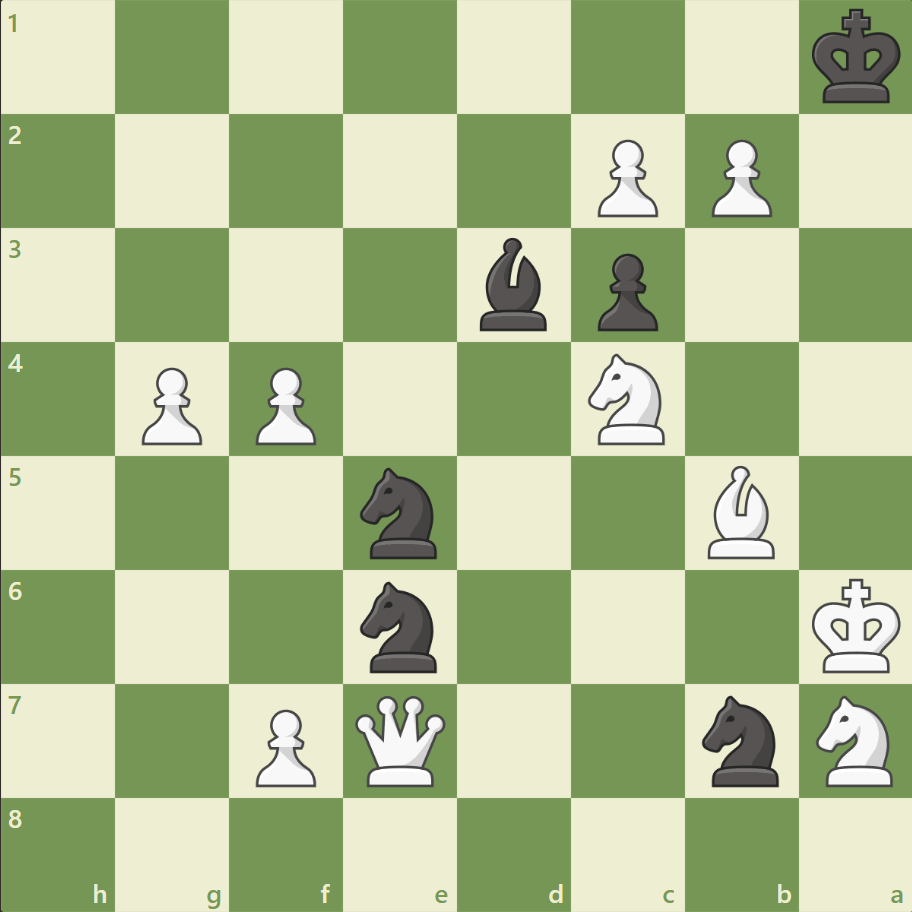B: (698, 460, 782, 563)
K: (806, 571, 906, 679)
N: (806, 688, 903, 791), (579, 348, 676, 450)
P: (247, 700, 322, 791), (247, 359, 322, 450), (133, 359, 208, 450), (701, 132, 776, 223), (588, 132, 662, 223)
Q: (351, 690, 450, 789)
b: (471, 233, 555, 336)
k: (806, 4, 906, 112)
n: (351, 461, 449, 564), (351, 575, 449, 677), (692, 688, 789, 791)
p: (588, 246, 662, 337)
